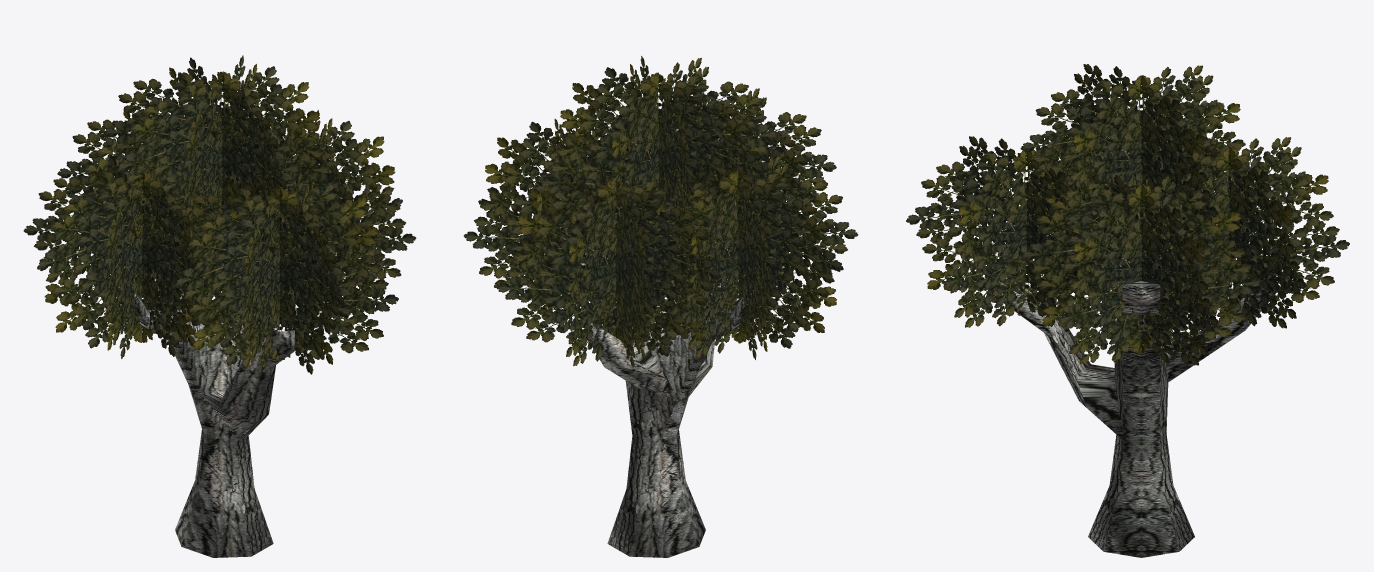
Rendered from lowpolytree.obj.
3 views of the same model, side by side, from view 1: azimuth 30°, elevation 25°; view 2: azimuth 150°, elevation 25°; view 3: azimuth 270°, elevation 25° (orthographic).
Visible parts, largest first — view 1: leaves, body; view 2: leaves, body; view 3: leaves, body.
Part boxes in pixels (x1,y1,x2,y2): leaves: (23, 55, 416, 376); body: (118, 202, 327, 557); leaves: (463, 56, 858, 367); body: (550, 205, 762, 557); leaves: (906, 64, 1349, 365); body: (998, 276, 1276, 557).
Bounding box in the file's own units: 74.1 × 87.15 × 78.39.
2 materials, 2 textured.
